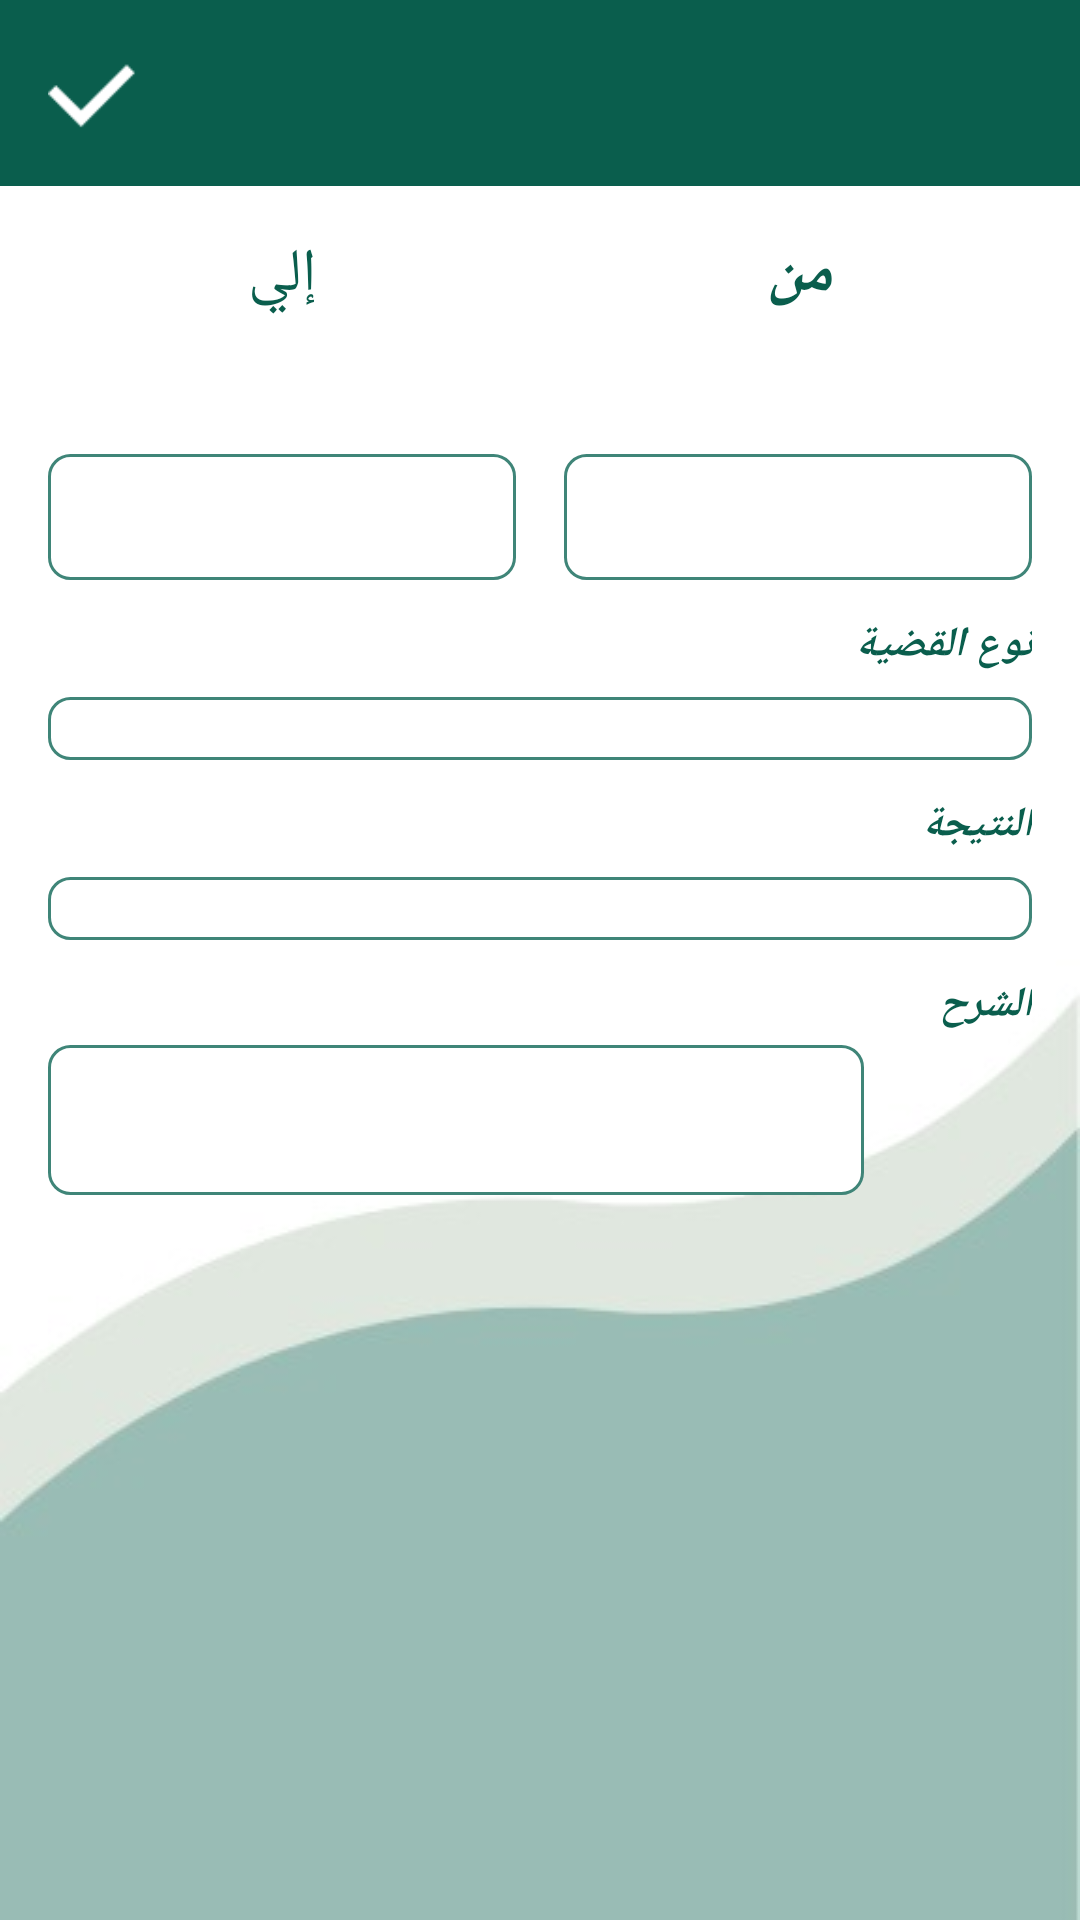

Named icons in this screenshot (1080x1920) and their centers, (x,y):
right: (91,95)
